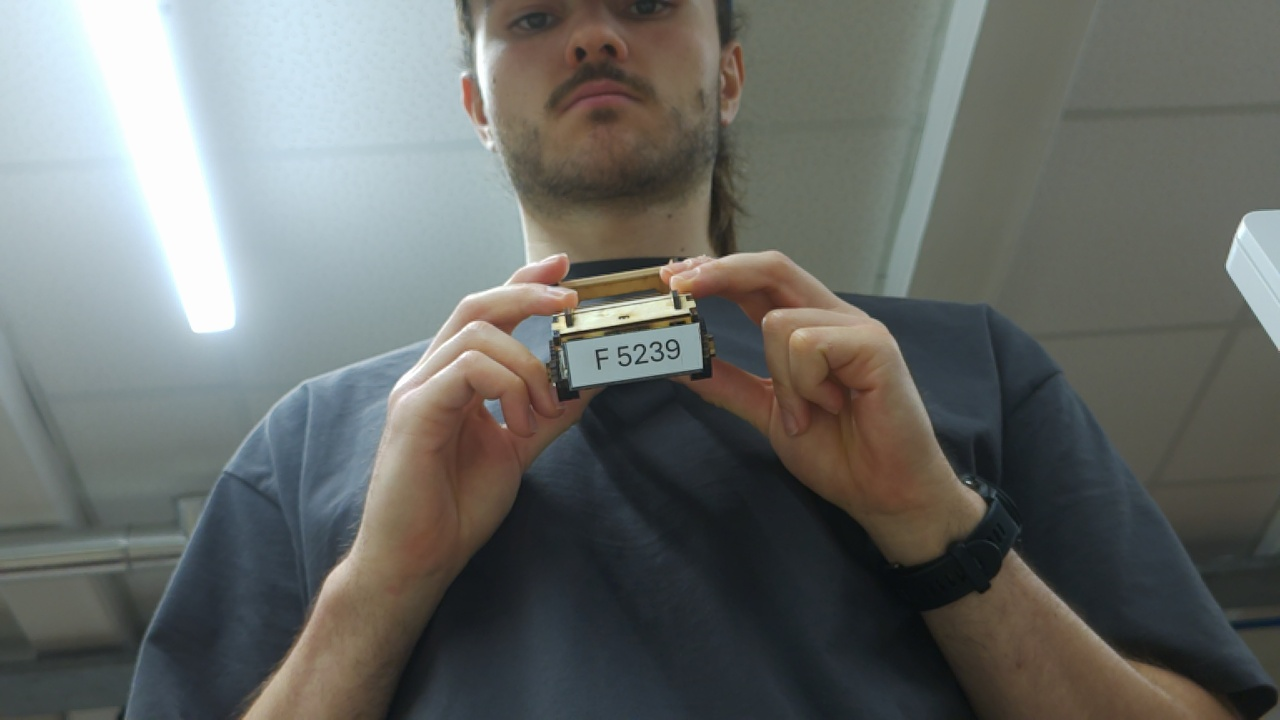license_plate: (559, 317, 708, 389)
